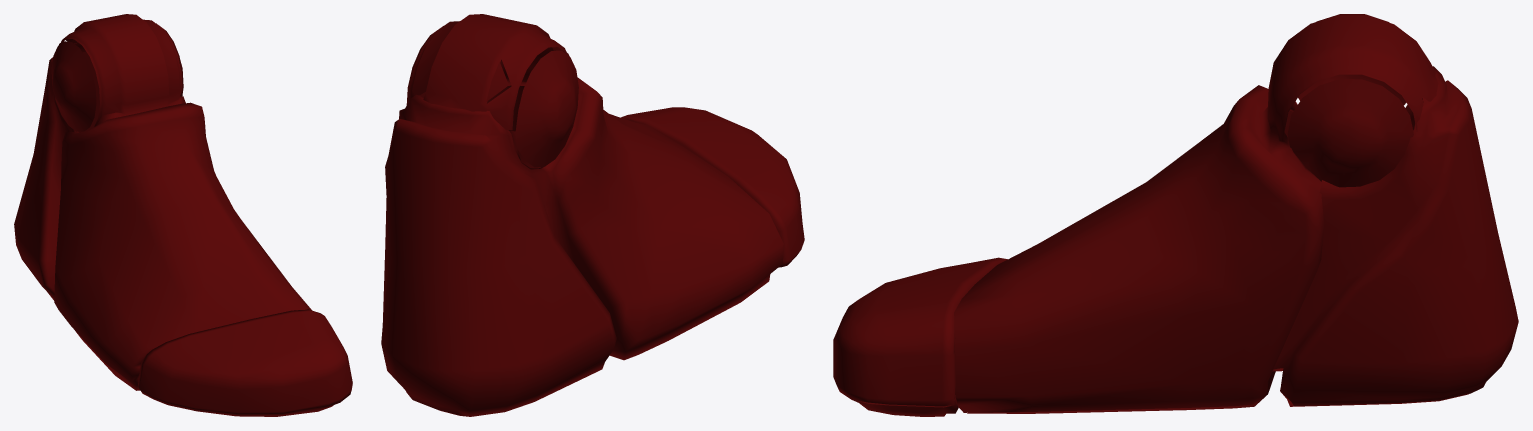
File: SM_SteelBoots_st_right.fbx
3 renders of one model, left to right at view 1: azimuth 30°, elevation 25°; view 2: azimuth 150°, elevation 25°; view 3: azimuth 270°, elevation 25°, orthographic. The views are drawn at different scales.
Parts seen in each view (by area): view 1: SM_SteelBoots; view 2: SM_SteelBoots; view 3: SM_SteelBoots.
Boxes of the visible parts, x1,y1,x2,y2 form: SM_SteelBoots: (14,14,352,416); SM_SteelBoots: (381,14,804,416); SM_SteelBoots: (833,14,1518,416).
Size of what is drawn, in the model's own units: 1.2 by 1.74 by 3.04.
